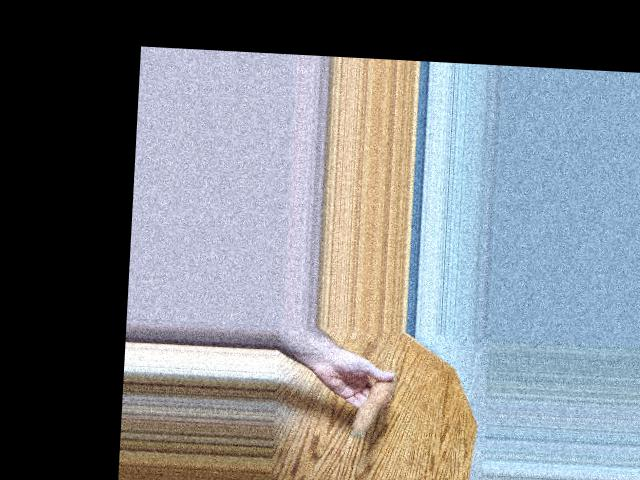sweet_potato: (344, 366, 398, 442)
